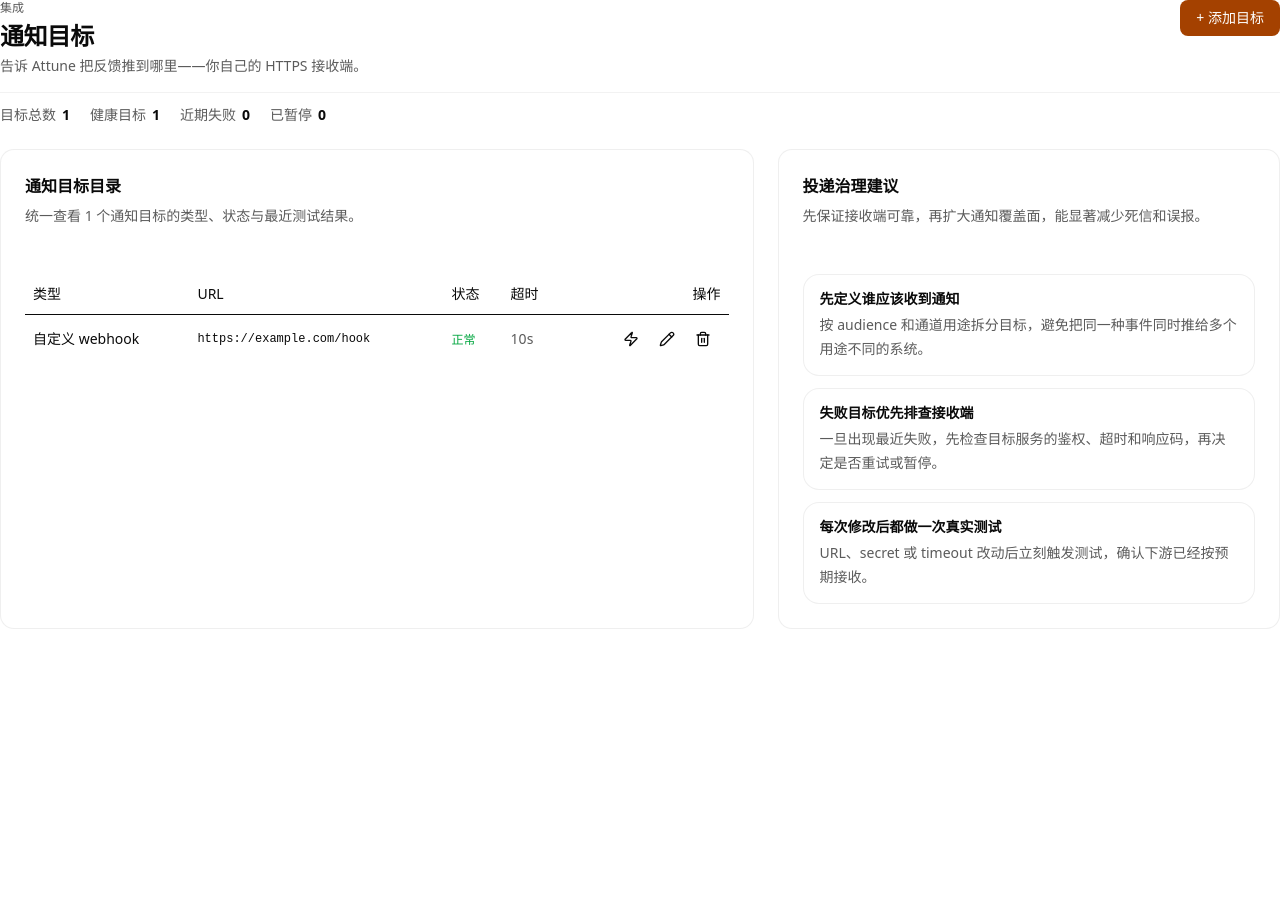
NotifyTargetsPage › surfaces edit failures and allows edit and delete dialogs to be cancelled
Expected: the text "https://example.com/hook" is shown, x1=189 y1=314 x2=443 y2=362
Click the button titled "编辑" at x=667, y=338, box x1=649 y1=322 x2=685 y2=354
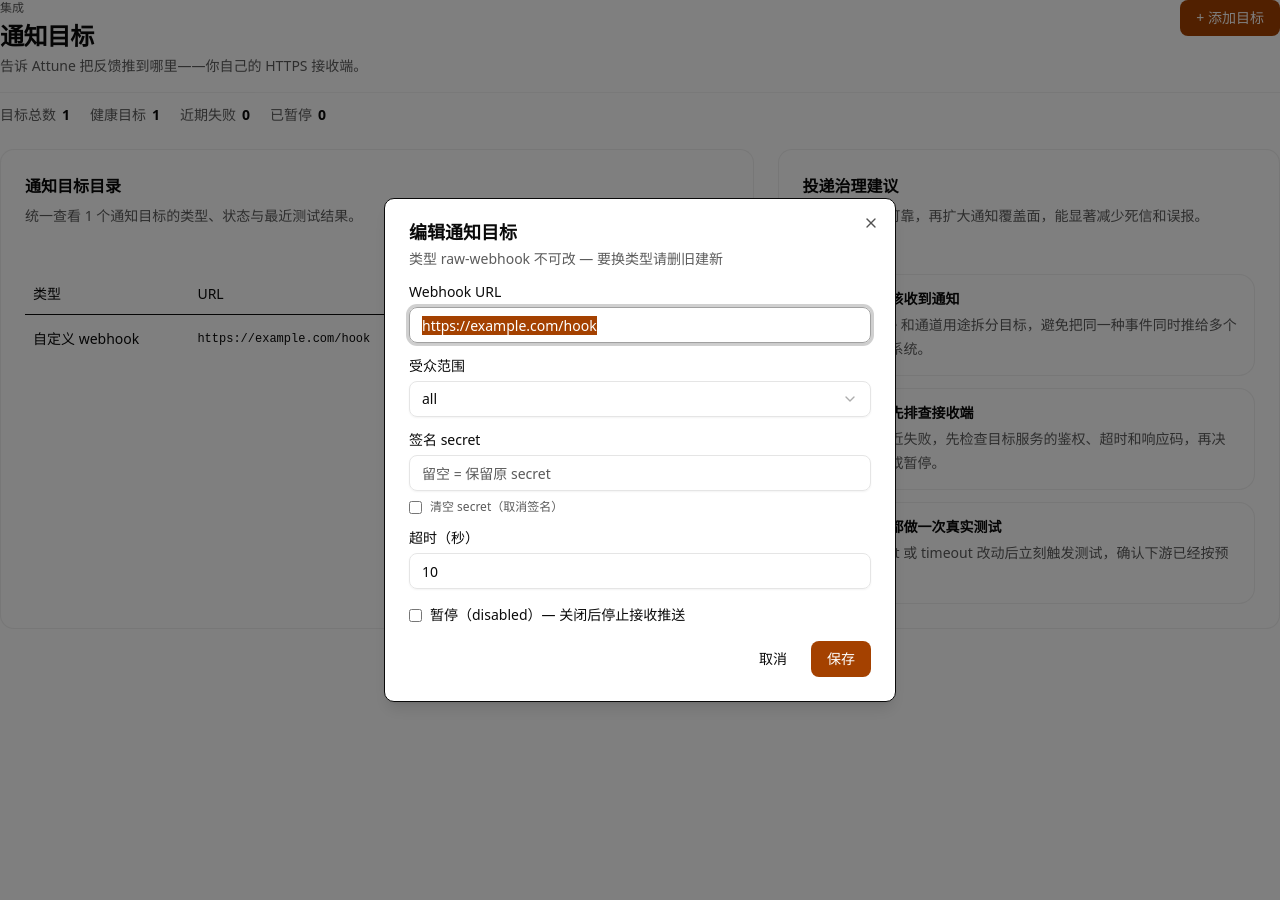
Replace the text in the field with test id "edit-notify-url" with "https://example.com/broken" at x=640, y=325, box x1=409 y1=307 x2=871 y2=343
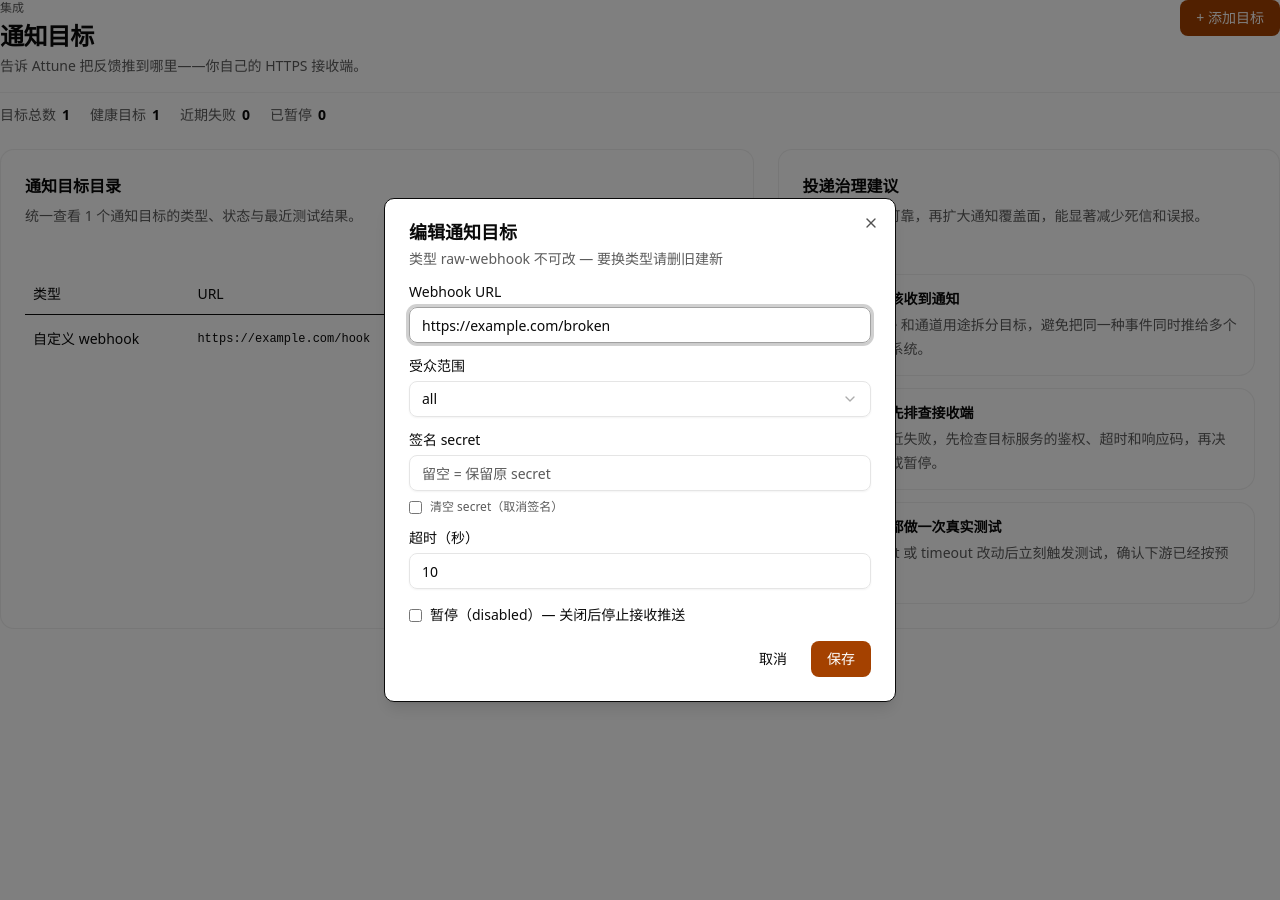
Click the button with test id "edit-notify-save" at x=841, y=659, box x1=811 y1=641 x2=871 y2=677
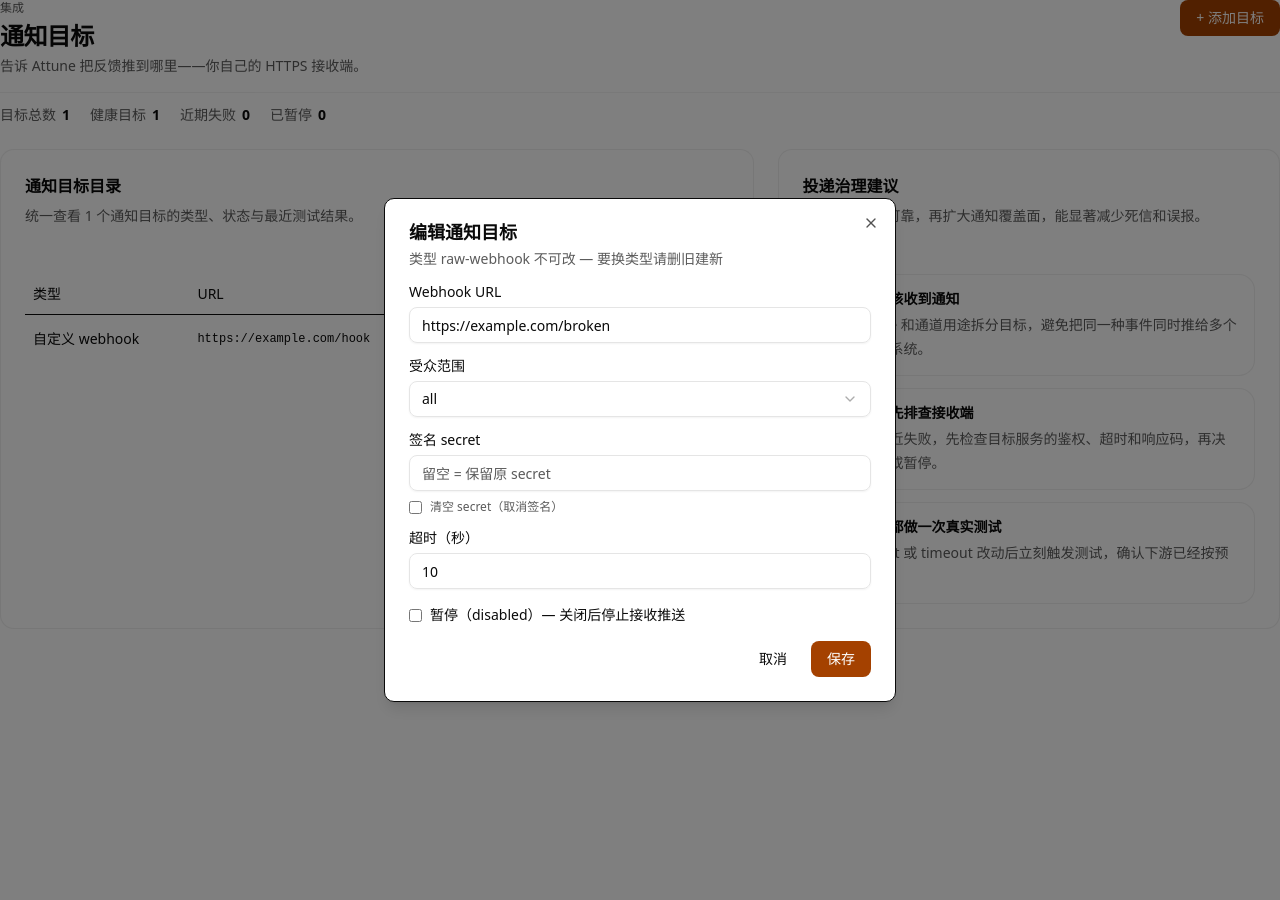
Click the button with test id "edit-notify-cancel" at x=773, y=659, box x1=743 y1=641 x2=803 y2=677
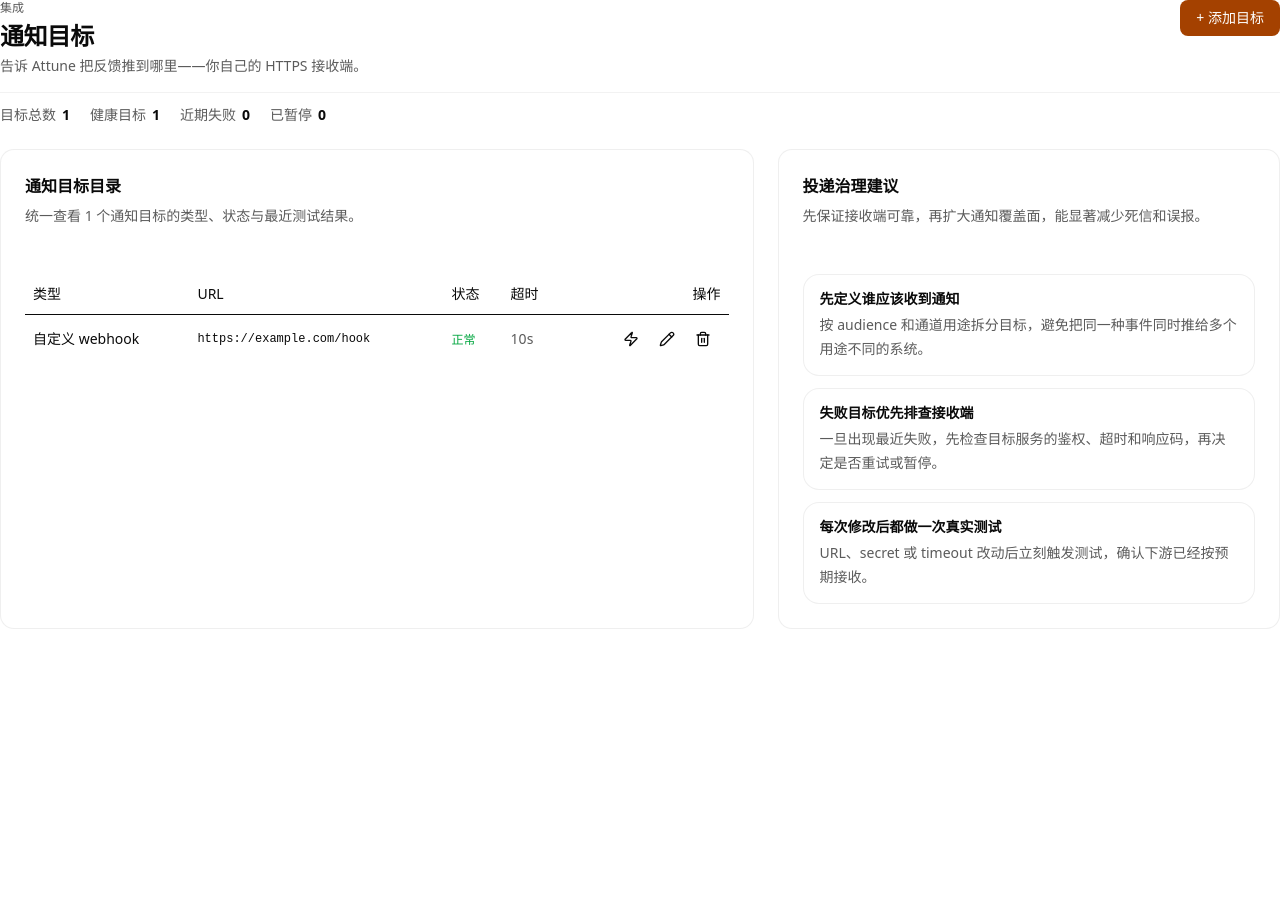
Result: the field with test id "edit-notify-url" is gone
Click the button titled "删除" at x=703, y=338, box x1=685 y1=322 x2=721 y2=354
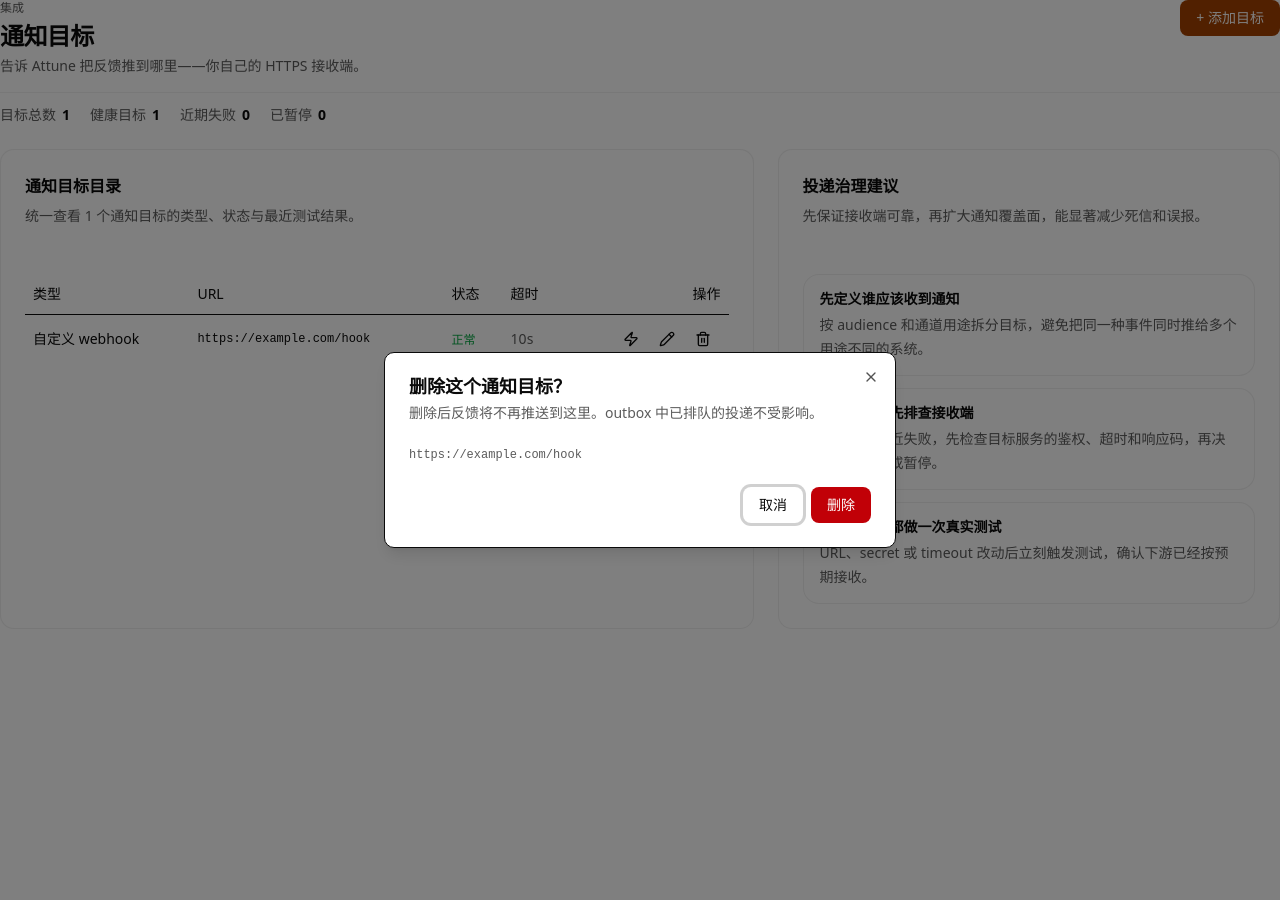
Result: the dialog "删除这个通知目标？" is shown at x1=384 y1=352 x2=896 y2=548
Click the button "取消" at x=773, y=505, box x1=743 y1=487 x2=803 y2=523
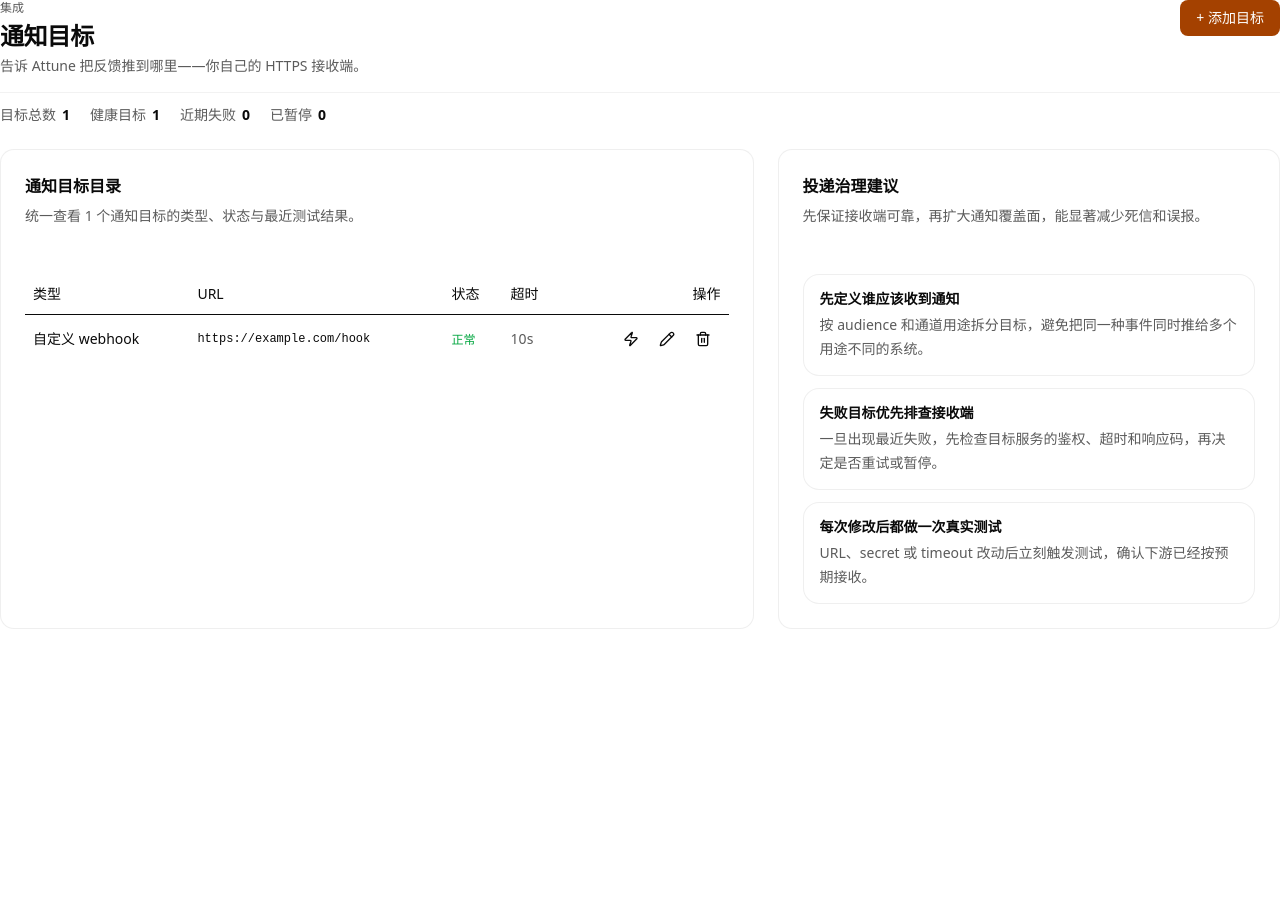
Result: the dialog is gone
